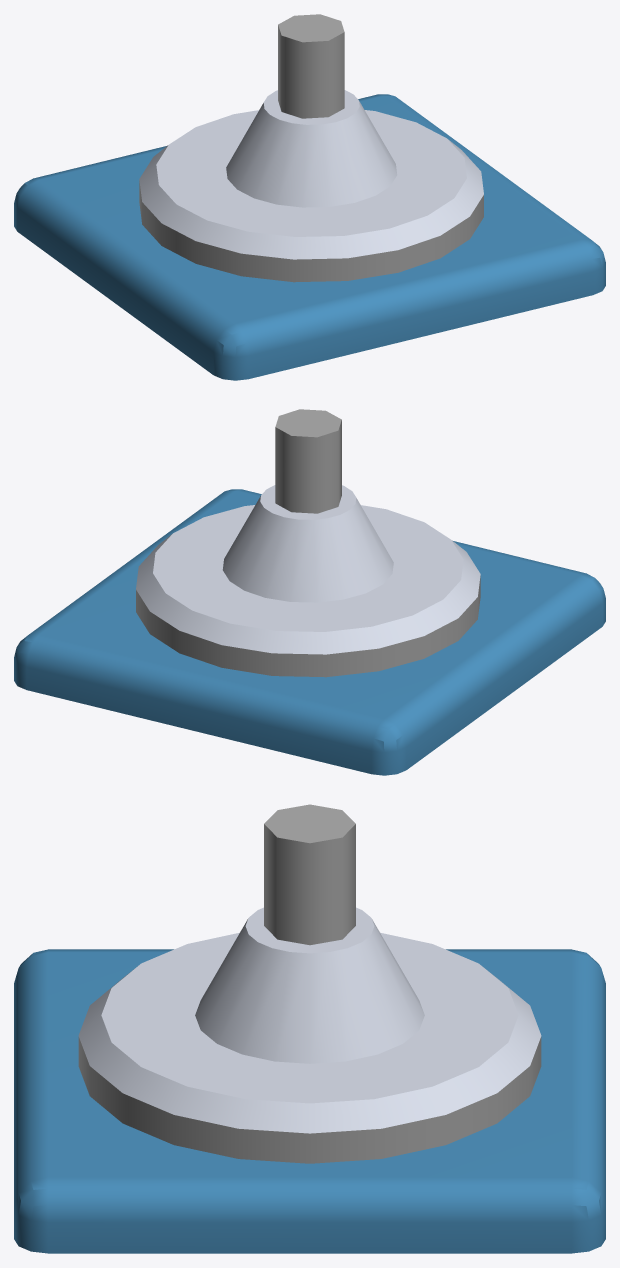
Rendered from floor_pivot.fbx.
3 views of the same model, one above another, from view 1: azimuth 30°, elevation 25°; view 2: azimuth 150°, elevation 25°; view 3: azimuth 270°, elevation 25° (orthographic). The views are drawn at different scales.
Parts seen in each view (by area): view 1: floor_pivot; view 2: floor_pivot; view 3: floor_pivot.
Part boxes in pixels (box(x1,y1,x2,y2)): floor_pivot: box(14, 14, 605, 380); floor_pivot: box(14, 409, 605, 775); floor_pivot: box(14, 804, 605, 1253).
Bounding box in the file's own units: 0.9287 × 0.5188 × 0.9164.
